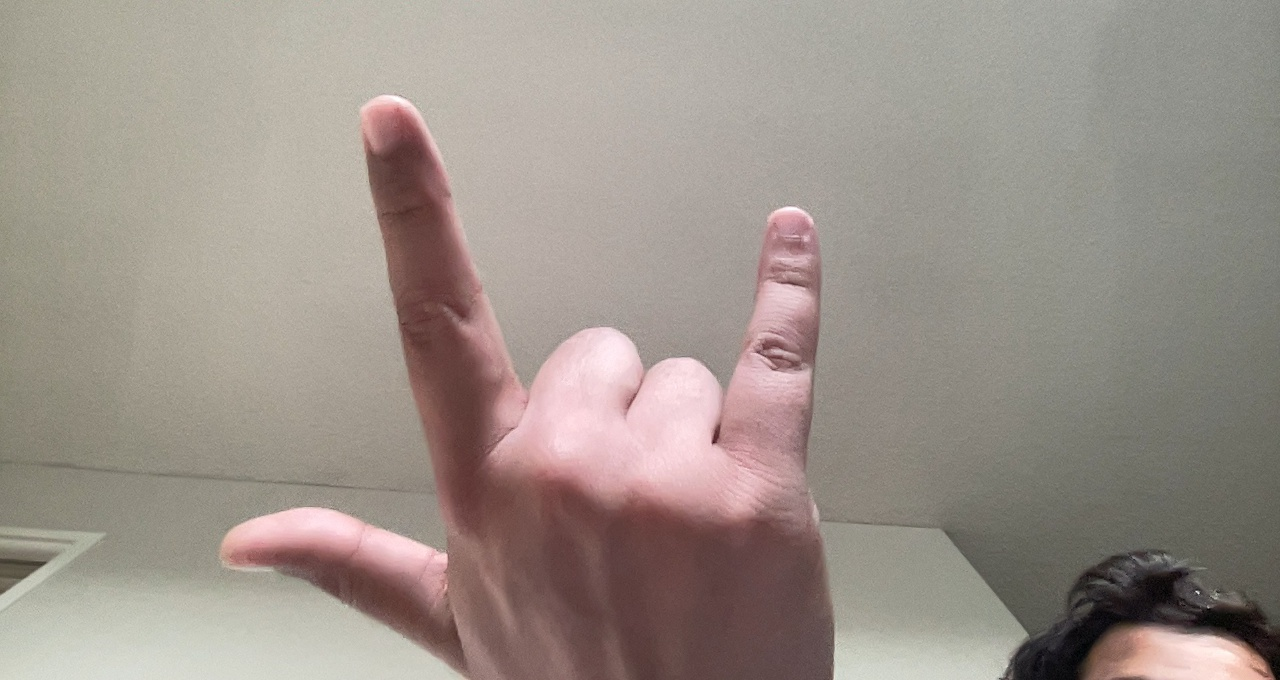rockon sign: (210, 72, 864, 675)
